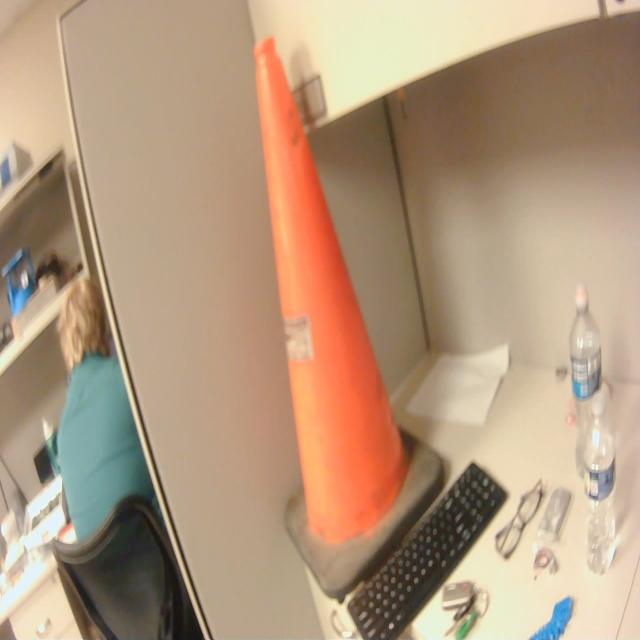traffic cone: (252, 33, 451, 601)
